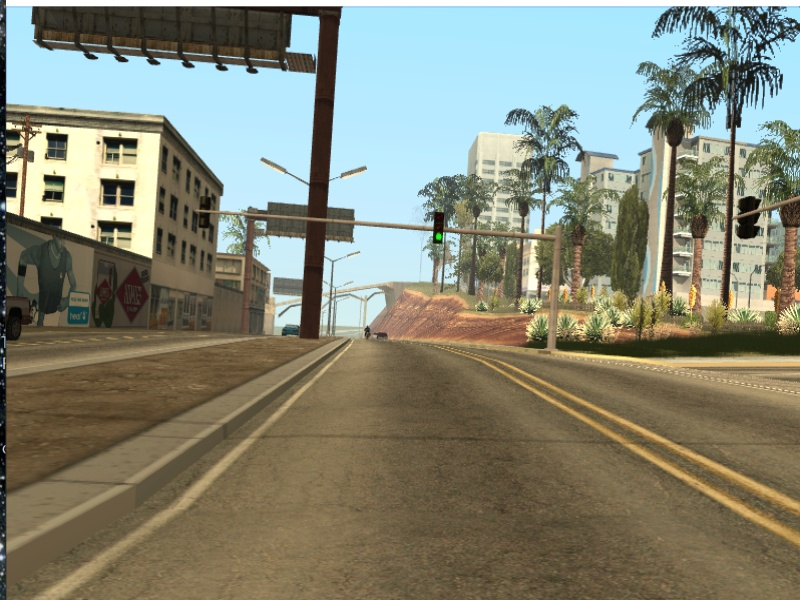pole: (300, 22, 333, 342), (546, 236, 563, 353), (239, 219, 253, 334)
vehicle: (281, 322, 299, 336), (363, 326, 372, 340)
